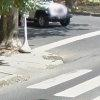Crosswalk: (30, 54, 95, 100)
